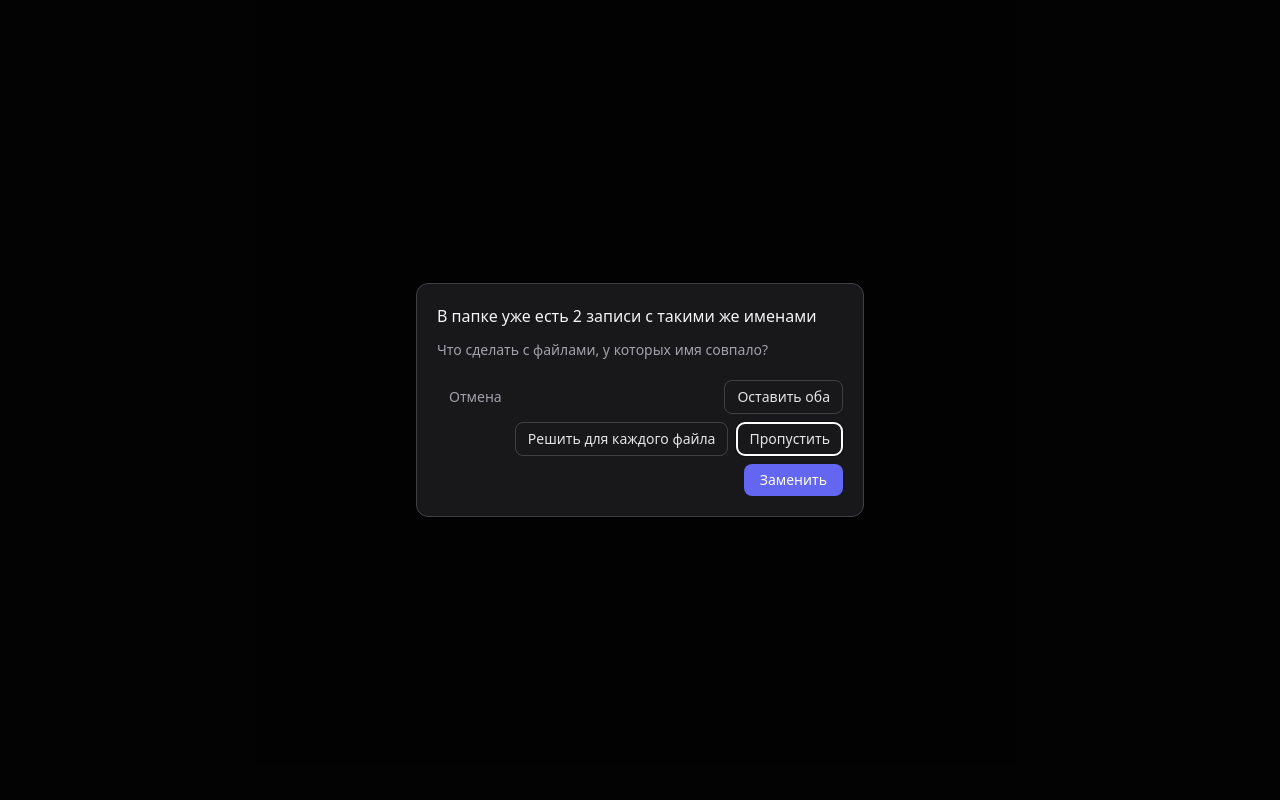
ConflictDialog › перемещение: те же три варианта, стороны - «Из перемещаемого» и «В папке»
Click the button "Решить для каждого файла" at (622, 439), box [515,422,728,456]
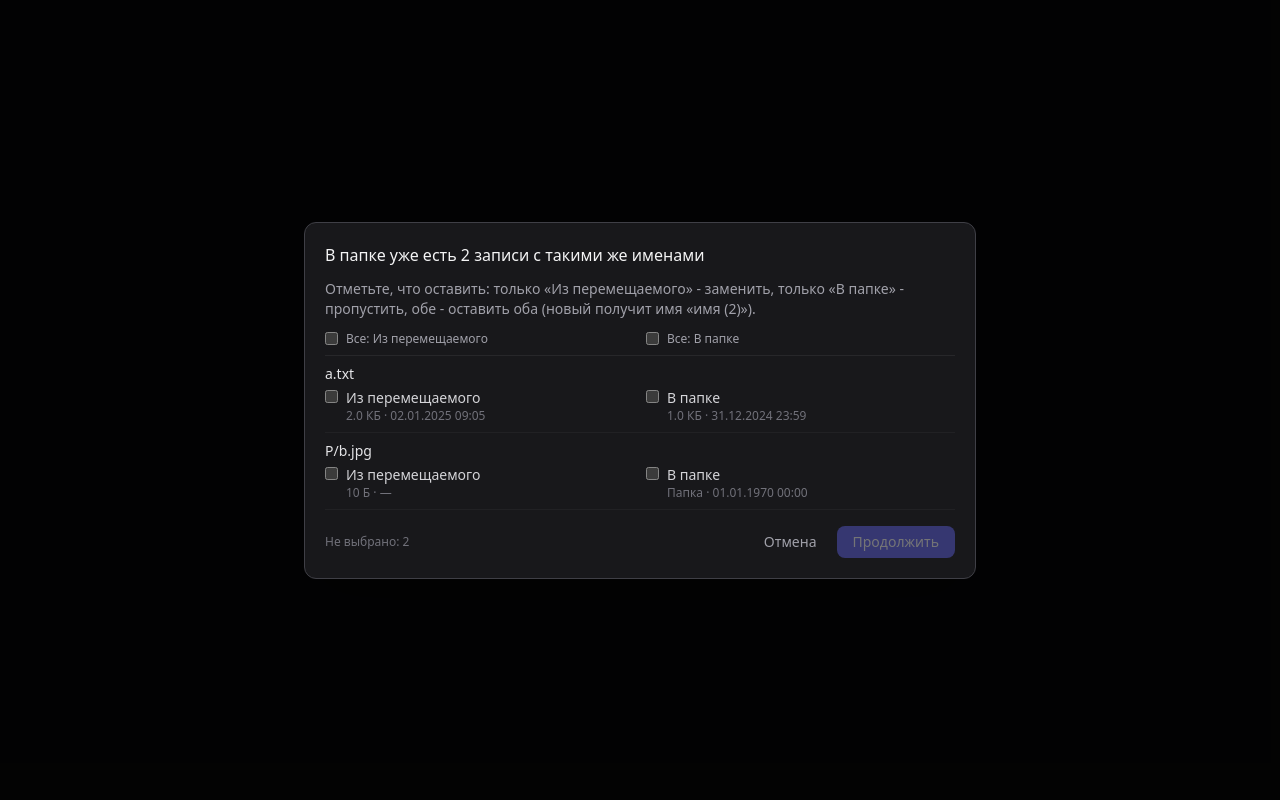
expect the text "Из перемещаемого" is shown 2 times: met, box [346,388,486,408]; [346,464,480,484]
expect the text "В папке" is shown 2 times: met, box [667,388,720,406]; [667,464,720,484]
